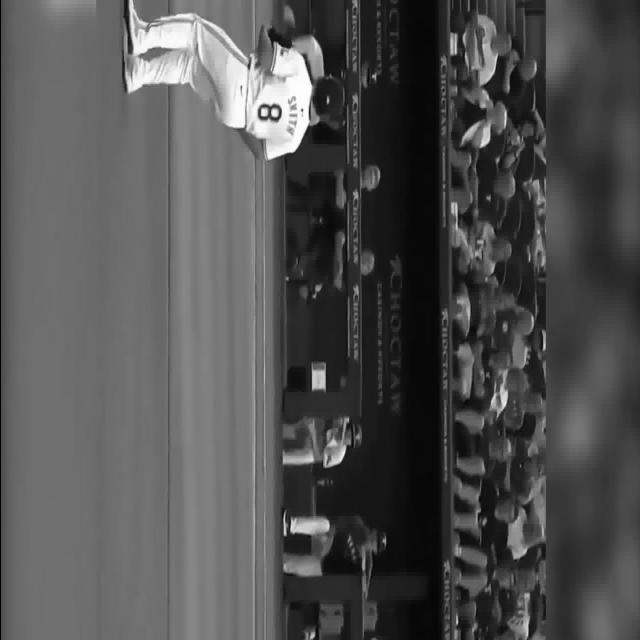shoe: (121, 18, 132, 94), (126, 0, 140, 56), (282, 508, 288, 536)
